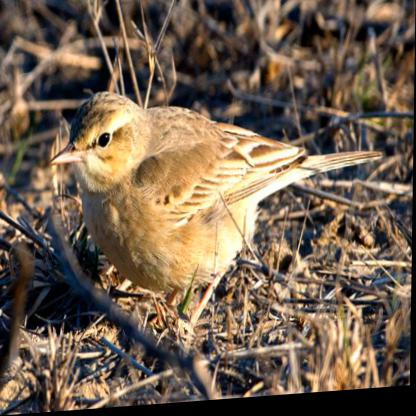Burung: (49, 75, 385, 357)
